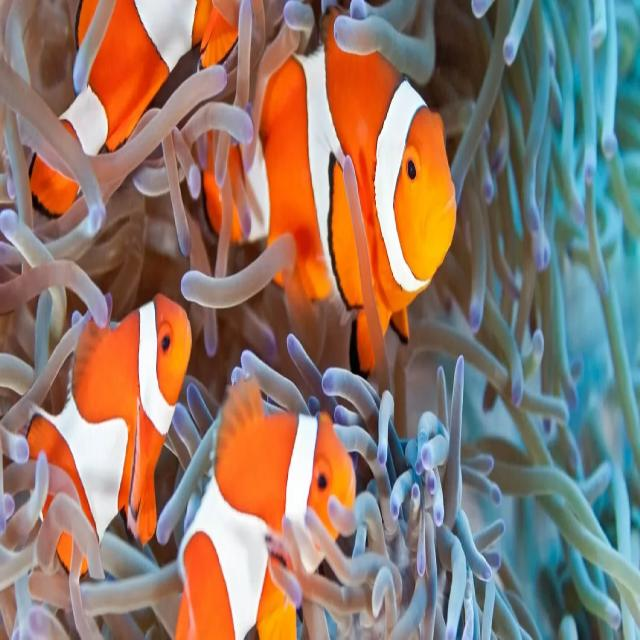ClownFish: (201, 36, 458, 370), (22, 0, 235, 221), (178, 378, 357, 640), (17, 297, 192, 556)
